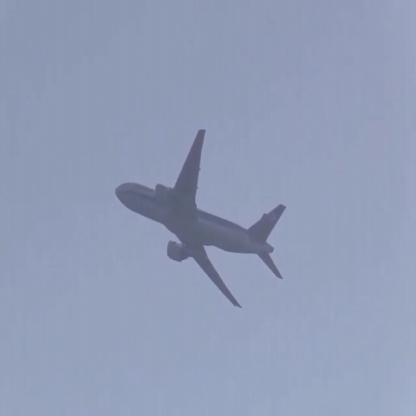CIV_Plane: (113, 128, 296, 308)
